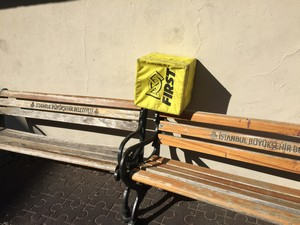cube: (138, 52, 196, 117)
